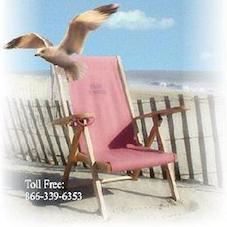chair: (36, 28, 195, 217)
